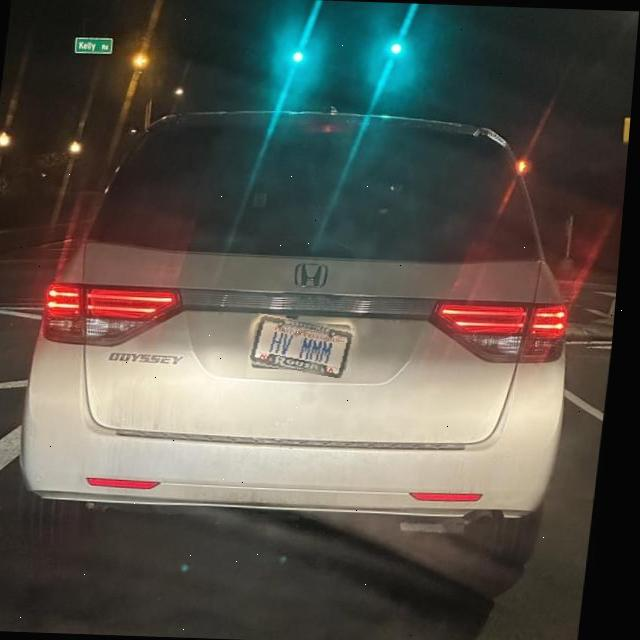LicensePlate: (254, 313, 360, 378)
